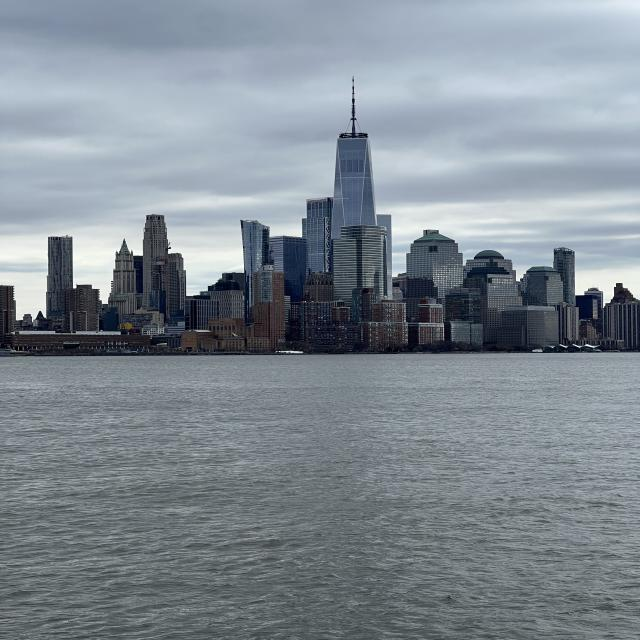WTC: (330, 77, 378, 226)
